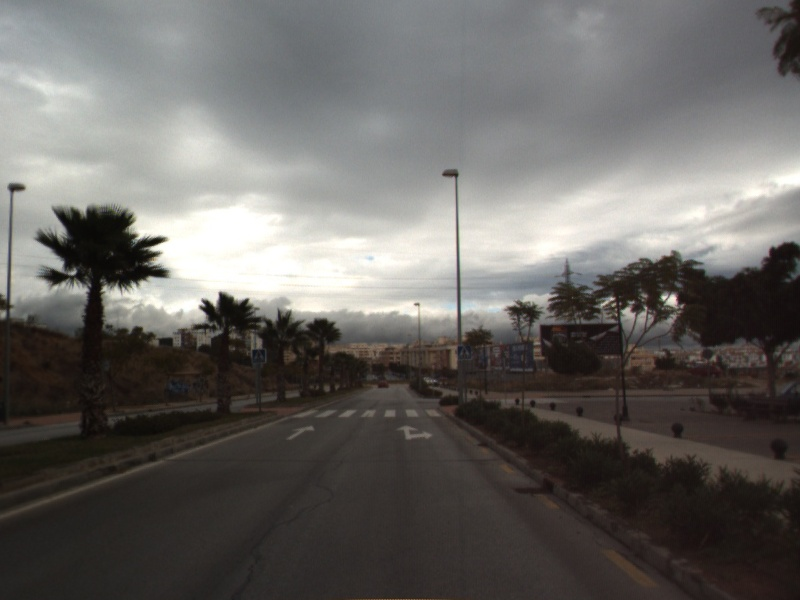STRAIGHT: (284, 423, 317, 442)
STRAIGHT_RIGHT: (394, 423, 435, 442)
